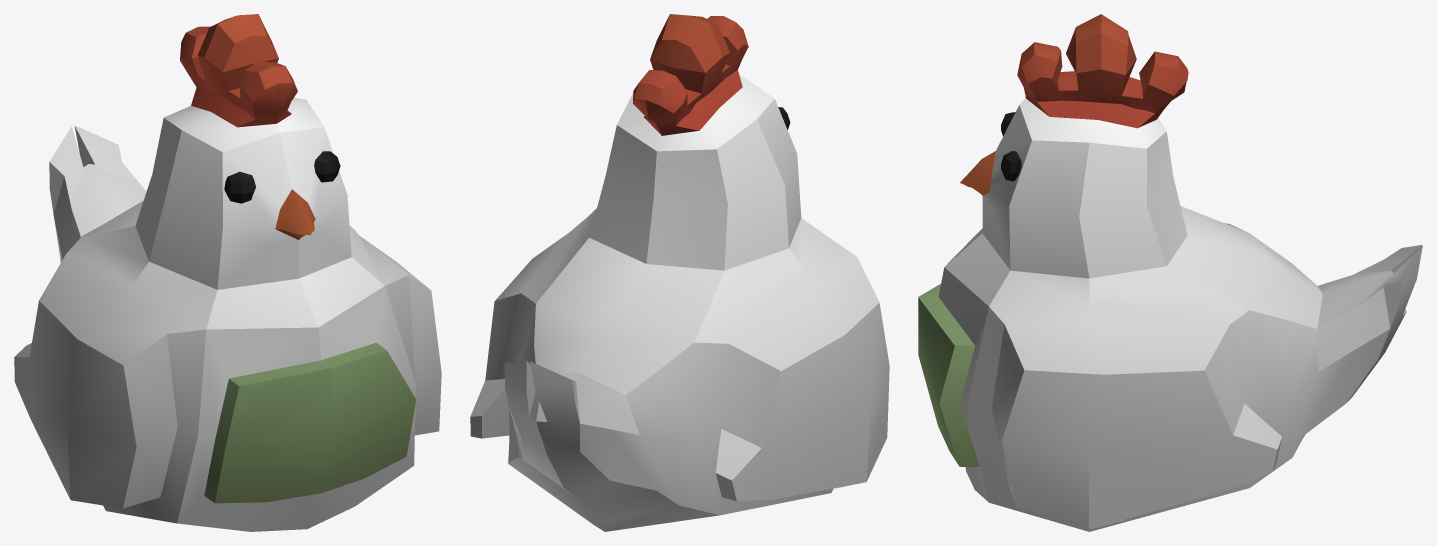
File: sp_clock_chicken_a.fbx
3 views of the same model, side by side, from view 1: azimuth 30°, elevation 25°; view 2: azimuth 150°, elevation 25°; view 3: azimuth 270°, elevation 25° (orthographic). The views are drawn at different scales.
Parts seen in each view (by area): view 1: sp_clock_chicken_a; view 2: sp_clock_chicken_a; view 3: sp_clock_chicken_a.
Part boxes in pixels (box(x1,y1,x2,y2)): sp_clock_chicken_a: box(14, 14, 441, 531); sp_clock_chicken_a: box(470, 14, 889, 531); sp_clock_chicken_a: box(918, 14, 1422, 531).
Size of the model in its own units: 28.11 by 35.05 by 35.51.
